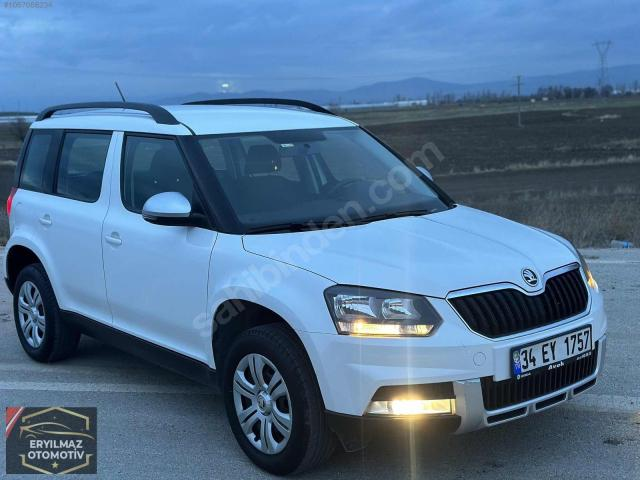plaka: (513, 328, 594, 378)
